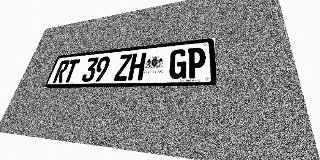3: (81, 57, 99, 82)
9: (92, 56, 111, 82)
G: (168, 48, 187, 79)
H: (128, 52, 147, 80)
P: (187, 47, 206, 79)
R: (52, 60, 70, 83)
T: (62, 59, 80, 83)
Z: (114, 54, 132, 81)
